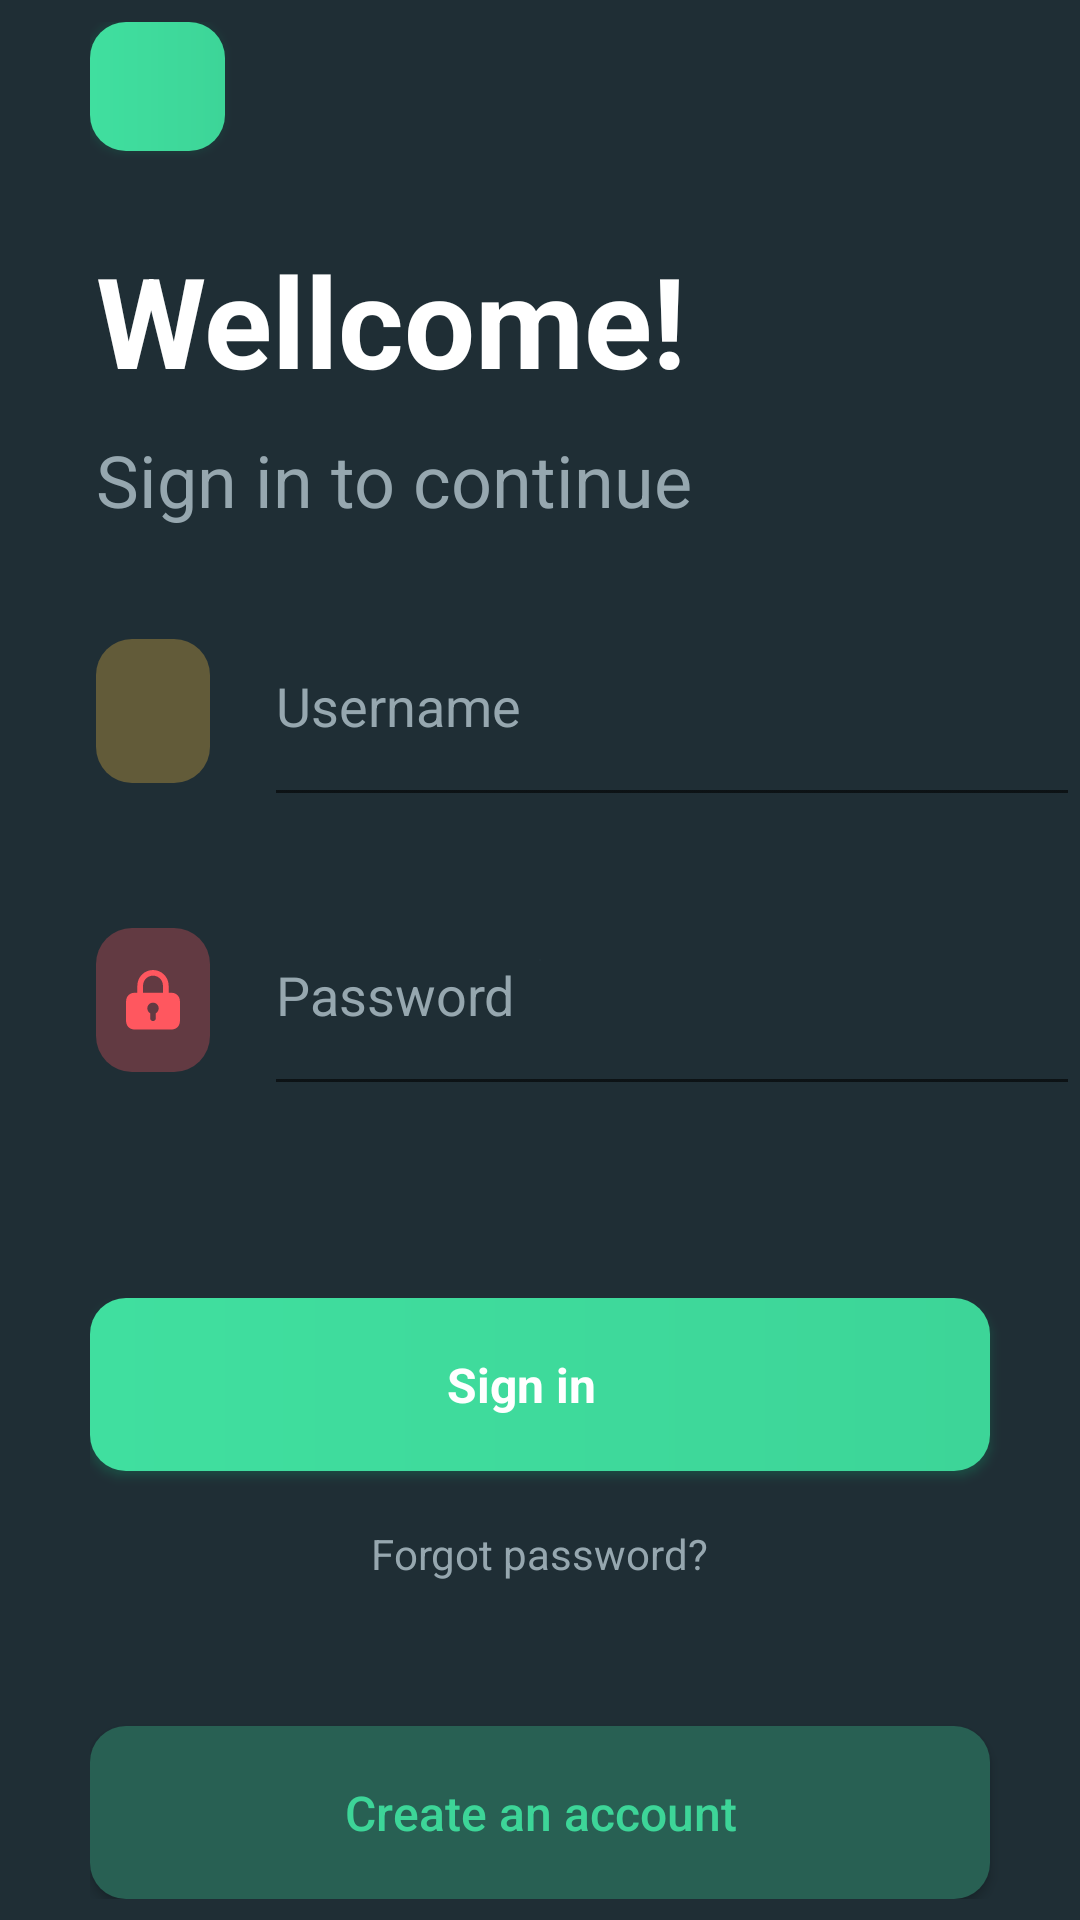

Where icons sit on this 1080×1920 app screen, as (x1, y1, x2, y2):
Lock: (96, 928, 210, 1072)
